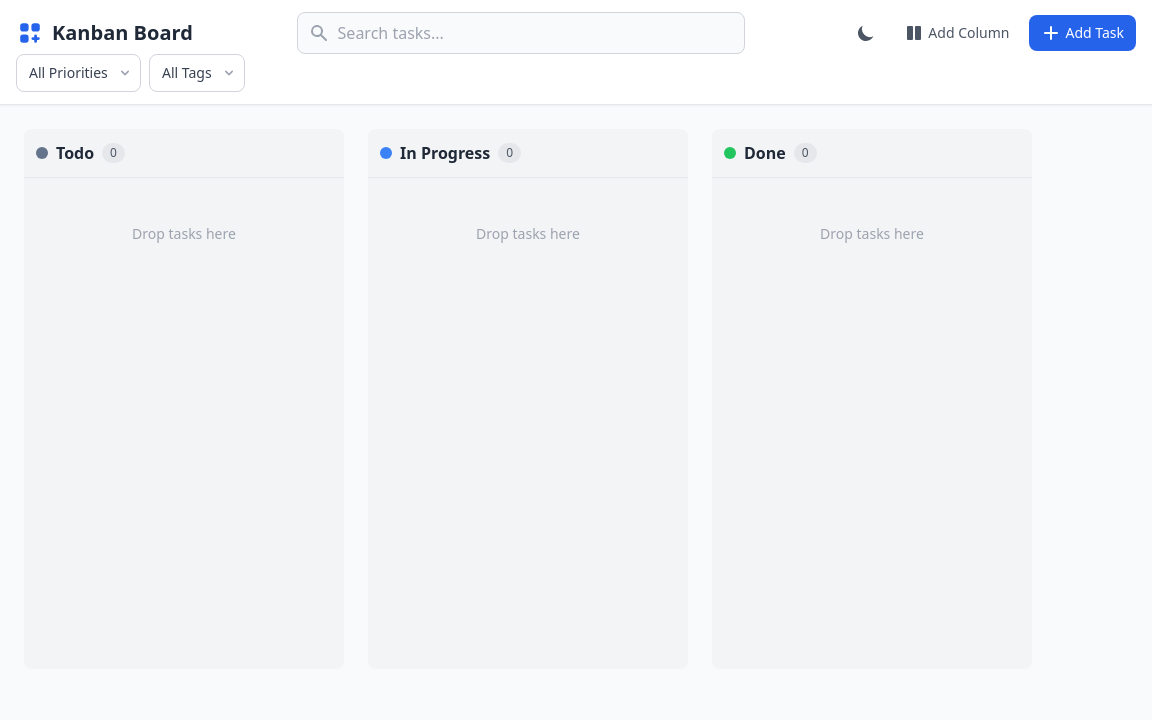
it: App Integration › Task Creation Flow › creates a task that appears in the Todo column
The width and height of the screenshot is (1152, 720).
// Click add task button
Click the button "Add Task" at (1083, 33), box 1030,15 -> 1136,51
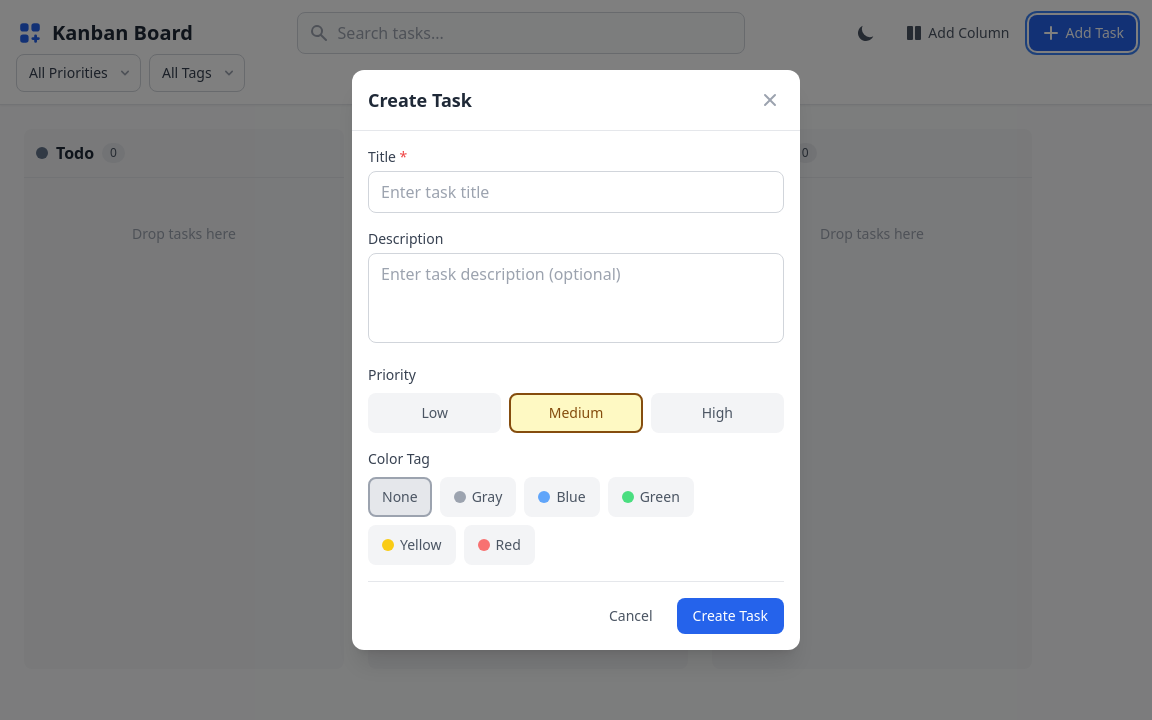
// Fill in the form - use role to be specific
Type "New Test Task" into the field labelled "Title *" at (576, 192), box 368,171 -> 784,213
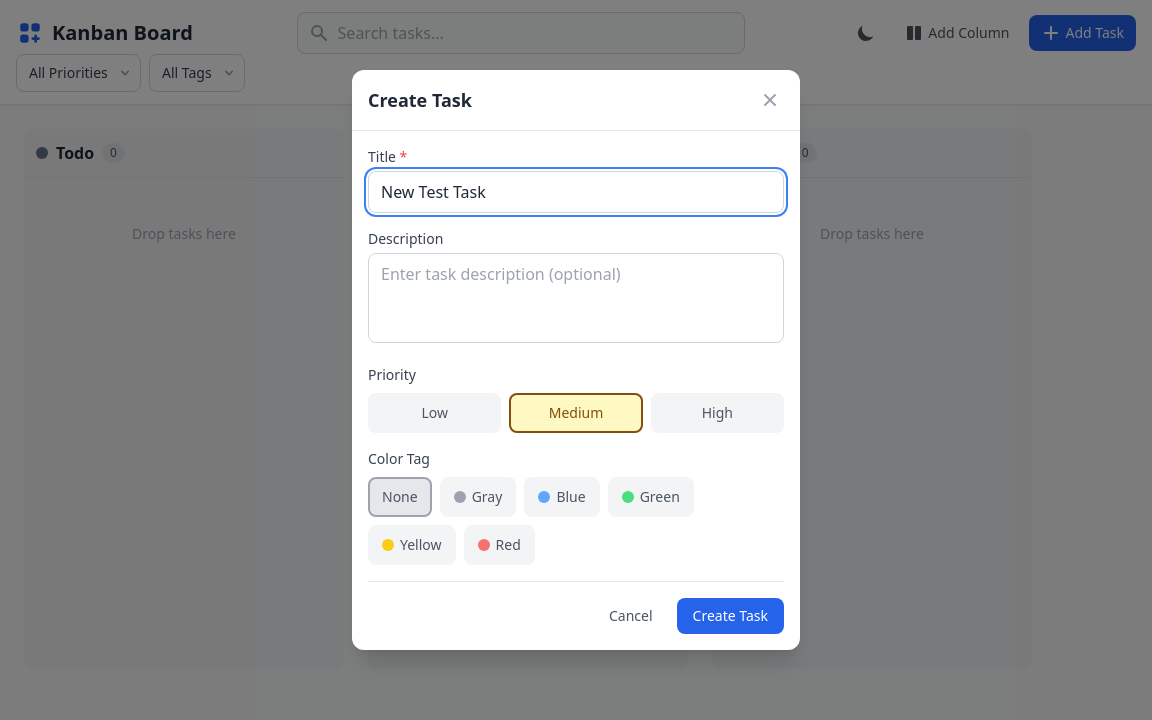
Type "Test description" into the text box labelled "Description" at (576, 298), box 368,253 -> 784,343
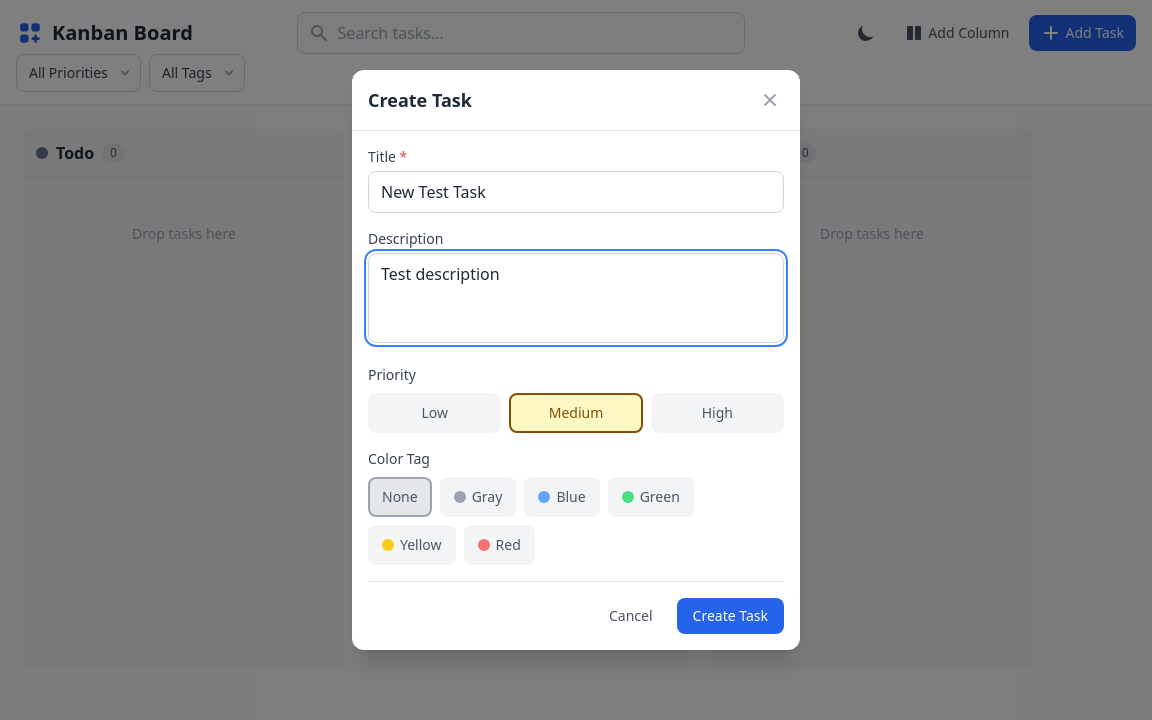
Click the button "Create Task" at (730, 616), box 677,598 -> 784,634
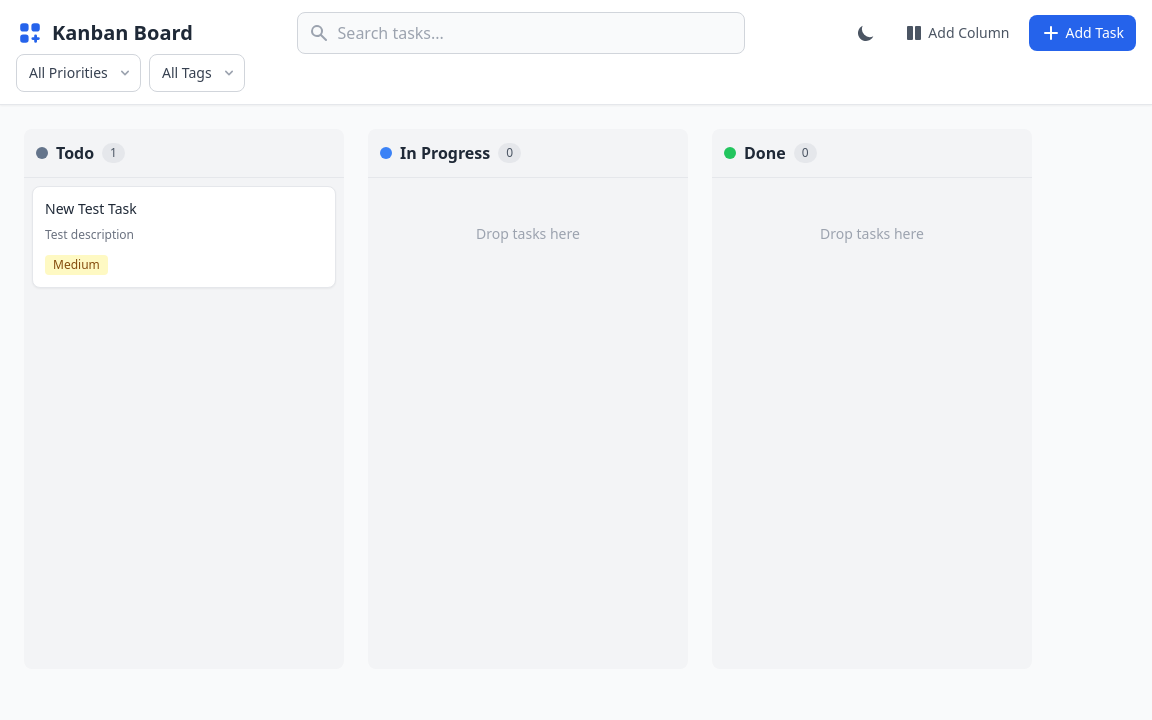
Result: the heading "New Test Task" is shown at 45,199 -> 137,218
